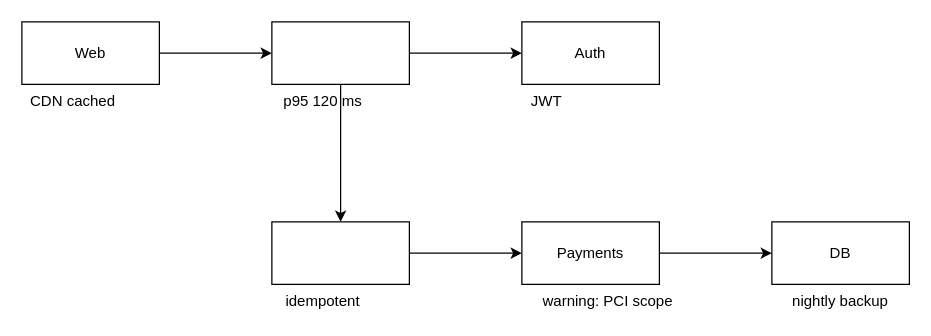
Image size: 931x336. Some labels were removed from this diagram. Here are the shapes that lost their labels. From the top down, the centre of each, then its label:
[340,52]: API
[340,252]: Orders
